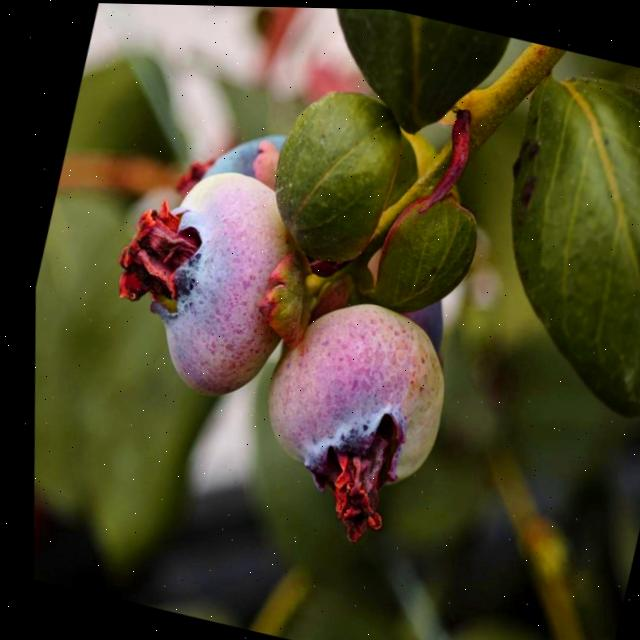Semi-RipeBlueBerry: (77, 145, 309, 409), (228, 275, 468, 525)
